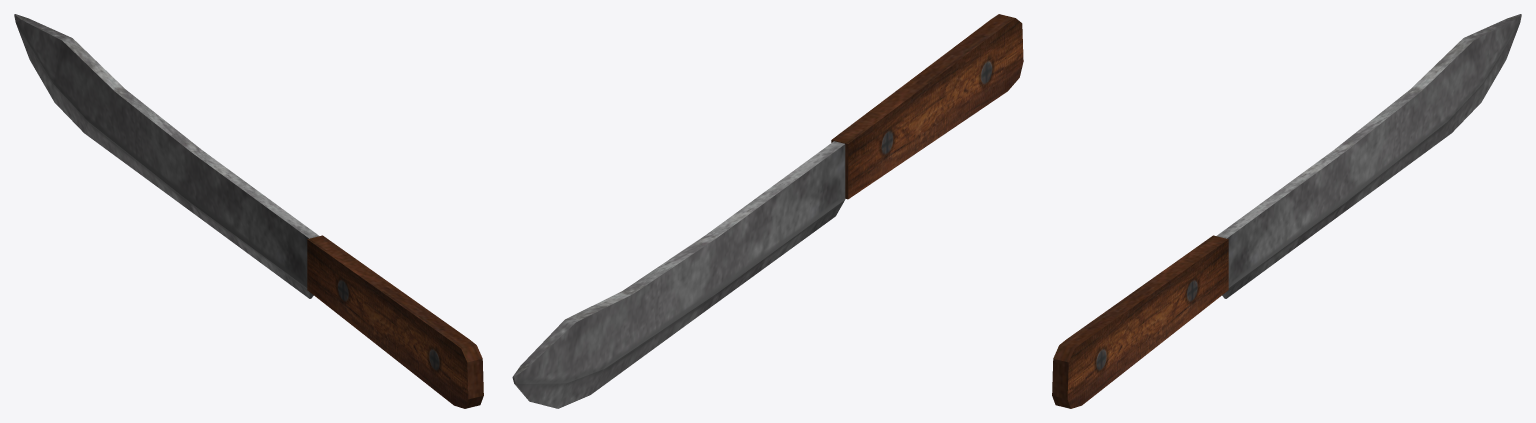
The model's file is ps1_style_machete.glb.
The picture shows the model from 3 angles, left to right: view 1: azimuth 30°, elevation 25°; view 2: azimuth 150°, elevation 25°; view 3: azimuth 330°, elevation 25°; orthographic projection. The views are drawn at different scales.
Parts seen in each view (by area): view 1: Cube.001, Cube; view 2: Cube.001, Cube; view 3: Cube.001, Cube.
Boxes of the visible parts, bbox=[...] form: Cube.001: bbox=[14, 14, 319, 298]; Cube: bbox=[307, 235, 483, 408]; Cube.001: bbox=[512, 141, 845, 408]; Cube: bbox=[831, 14, 1023, 199]; Cube.001: bbox=[1216, 14, 1521, 298]; Cube: bbox=[1052, 235, 1228, 408].
Size of the model in its own units: 0.243 by 1.22 by 12.53.
1 material, 1 textured.
